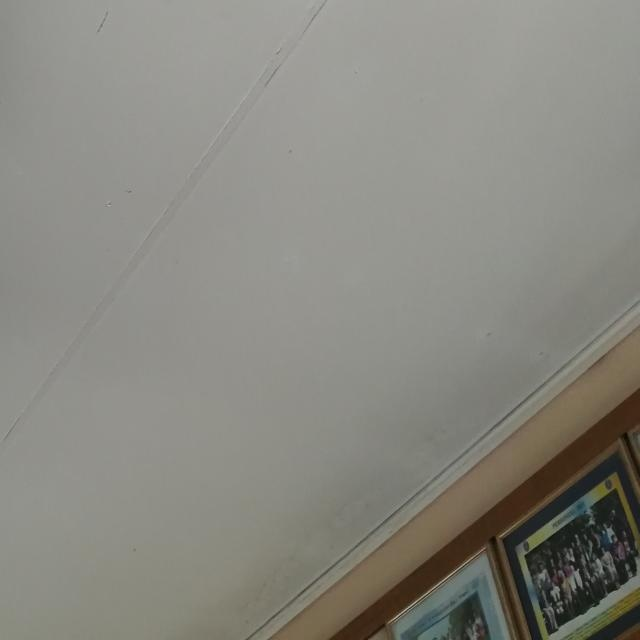fluorescent tube: (0, 0, 194, 442)
